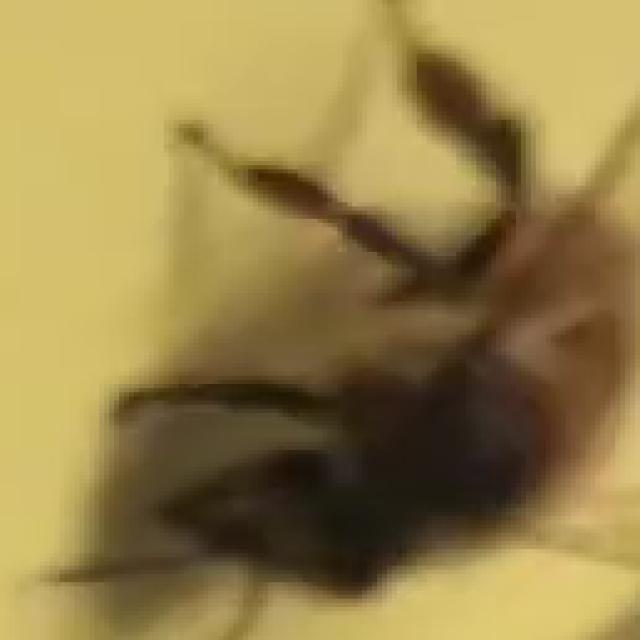honeybee: (117, 60, 584, 601)
